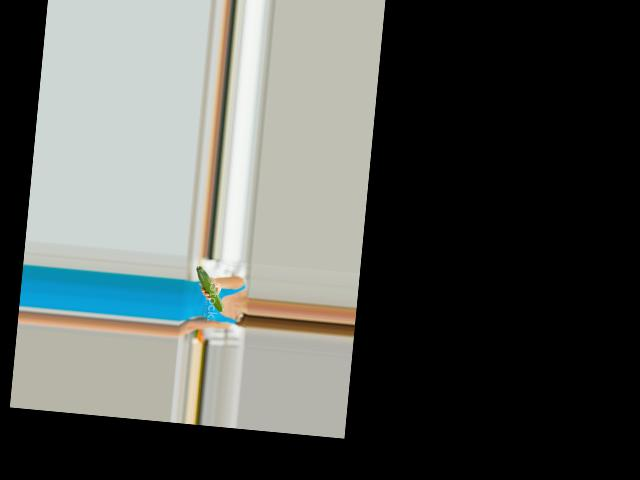cucumber: (192, 266, 227, 312)
